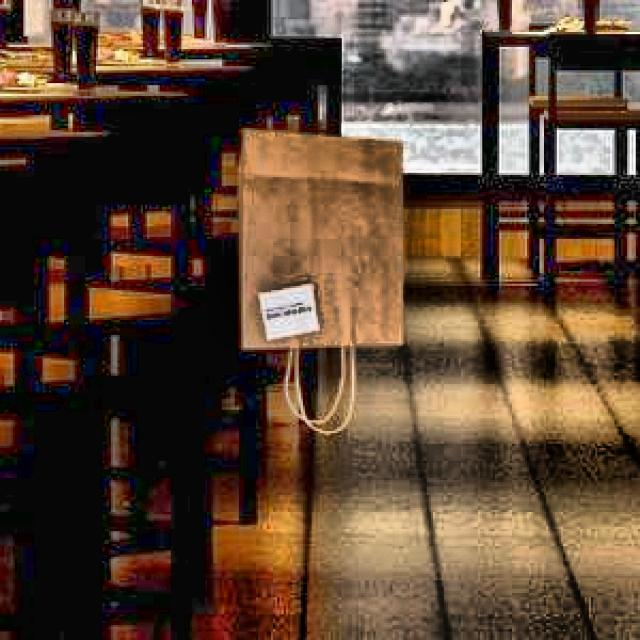Paper-bag: (222, 112, 418, 447)
